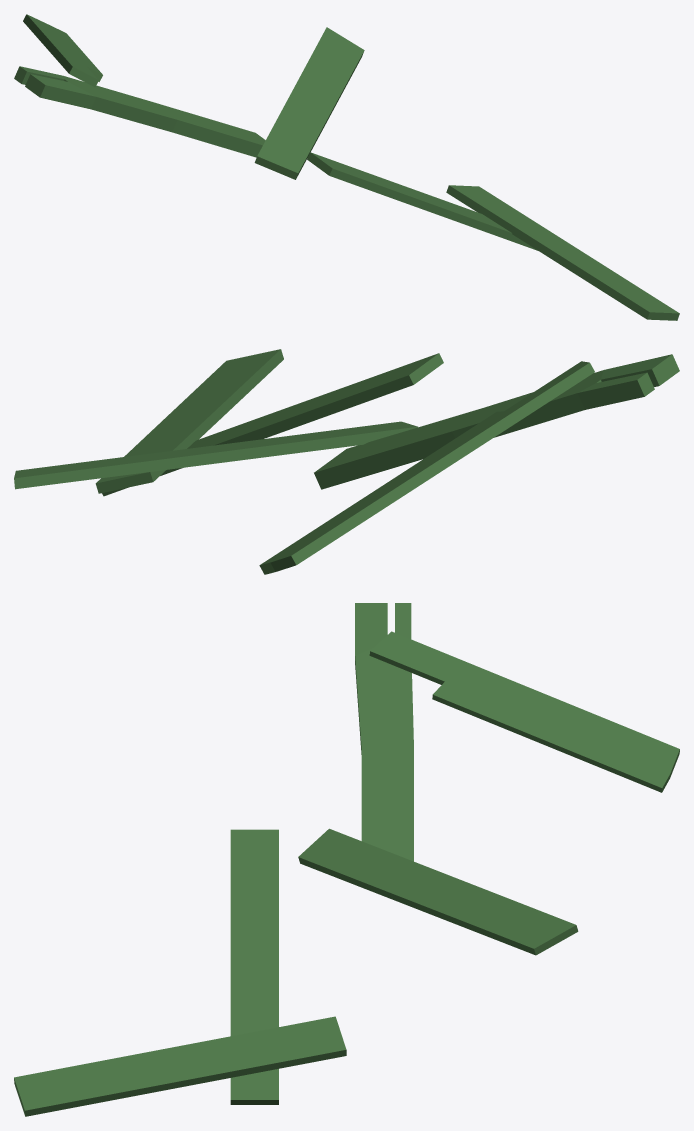
The model's file is Cupboard_14C_Break.fbx.
3 renders of one model, top to bottom at view 1: azimuth 30°, elevation 25°; view 2: azimuth 150°, elevation 25°; view 3: azimuth 270°, elevation 25°, orthographic. The views are drawn at different scales.
Parts seen in each view (by area): view 1: Cupboard_14C_Break; view 2: Cupboard_14C_Break; view 3: Cupboard_14C_Break.
Part boxes in pixels (x1,y1,x2,y2): Cupboard_14C_Break: [14, 14, 679, 320]; Cupboard_14C_Break: [14, 349, 679, 574]; Cupboard_14C_Break: [14, 603, 679, 1116].
Size of the model in its own units: 144 by 68.31 by 158.
